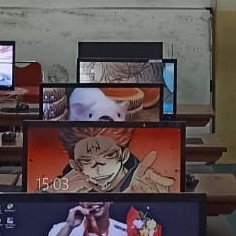monitor: (22, 120, 186, 193), (39, 82, 176, 123), (0, 41, 16, 91)
